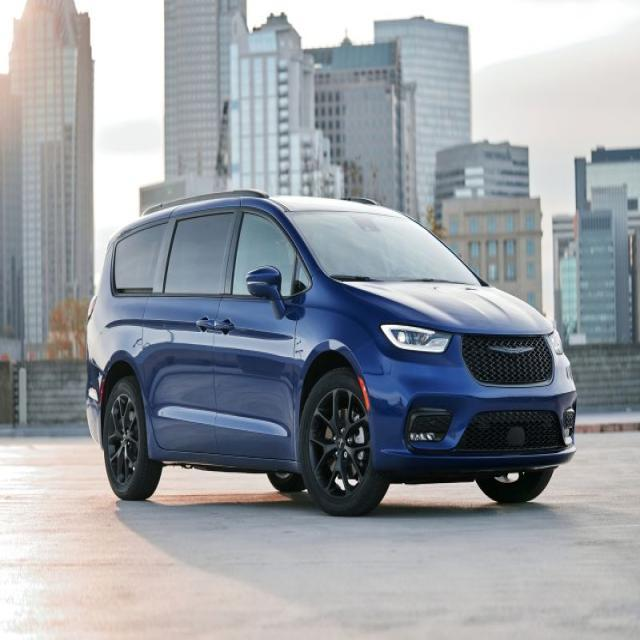minivan: (84, 187, 578, 517)
